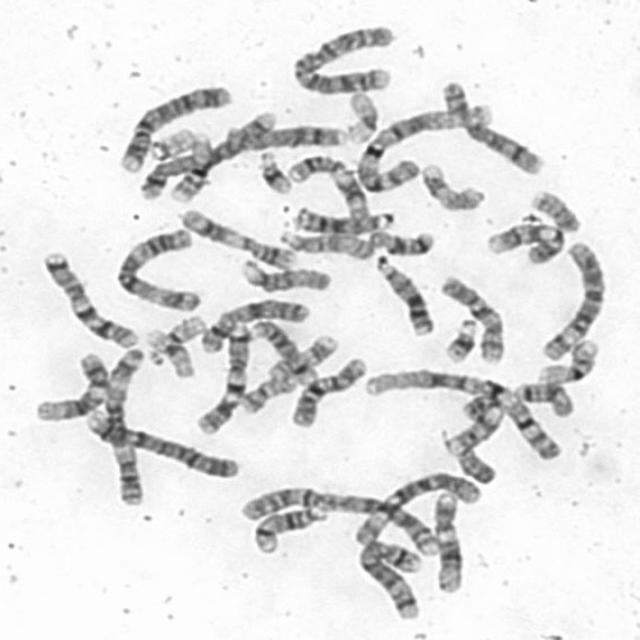A1: (364, 368, 562, 461), (356, 102, 494, 192)
A2: (86, 410, 242, 479), (293, 25, 394, 95)
A3: (117, 227, 201, 311), (102, 347, 145, 507)
B4: (241, 485, 444, 558), (119, 85, 234, 173)
B5: (140, 111, 278, 200), (357, 539, 422, 620)
C10: (439, 275, 504, 364), (291, 357, 367, 428)
C11: (180, 209, 298, 270), (287, 155, 368, 218)
C12: (36, 353, 110, 422), (432, 492, 464, 593)
C6: (352, 471, 482, 544), (542, 240, 606, 362)
C7: (40, 252, 140, 348), (196, 321, 252, 436)
C8: (441, 81, 545, 176), (225, 123, 349, 154)
C9: (444, 392, 506, 456), (486, 222, 565, 264)
D13: (375, 253, 435, 336), (292, 207, 396, 234)
D14: (247, 320, 320, 387), (254, 506, 330, 554)
D15: (278, 230, 375, 262), (239, 258, 330, 292)
E16: (168, 131, 214, 203), (536, 339, 600, 384)
E17: (267, 333, 339, 380), (421, 164, 486, 211)
E18: (513, 380, 575, 418), (367, 230, 435, 256)
F19: (145, 327, 195, 379), (346, 90, 379, 144)
F20: (530, 190, 582, 234), (239, 376, 299, 414)
G21: (444, 317, 478, 363), (258, 151, 292, 194)
G22: (145, 314, 208, 366), (147, 128, 197, 162)
X: (200, 298, 310, 354)
Y: (455, 448, 497, 485)
